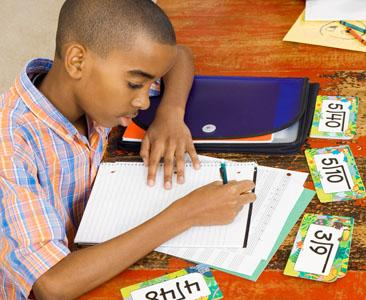person: (3, 2, 256, 297)
